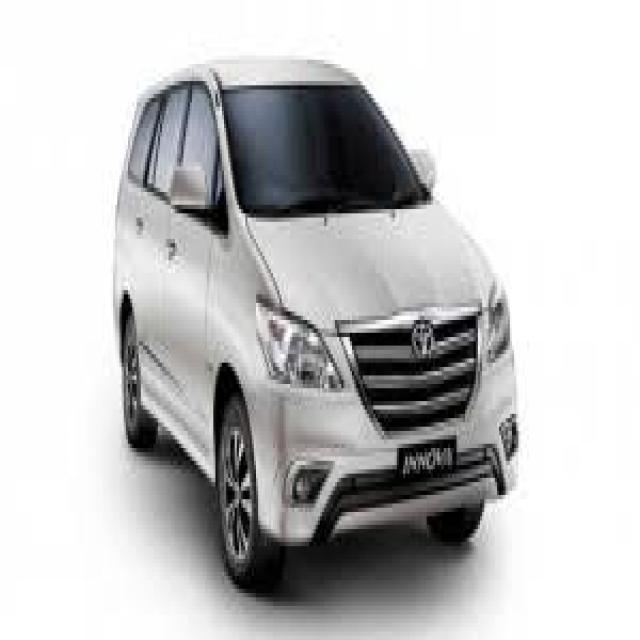light_vehicle: (114, 57, 518, 594)
